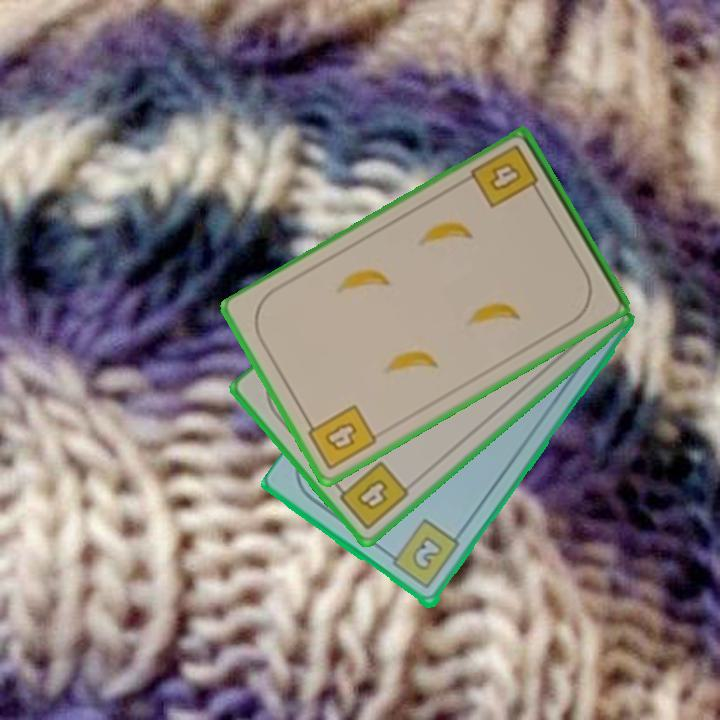2b: (382, 516, 463, 593)
4b: (330, 458, 412, 533), (301, 401, 380, 474), (467, 141, 545, 212)
